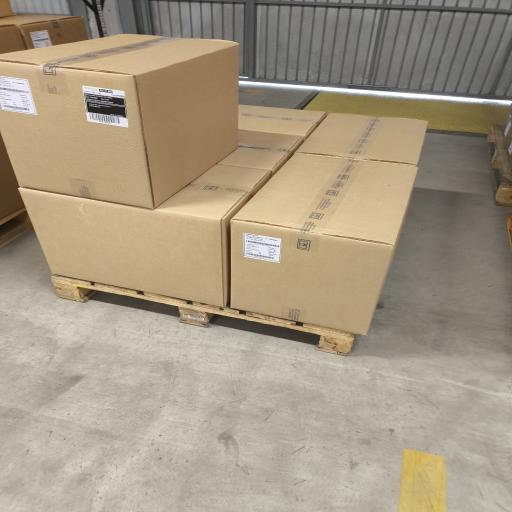pallet: (52, 275, 354, 355), (488, 125, 511, 206), (0, 208, 32, 247), (508, 214, 511, 248)
